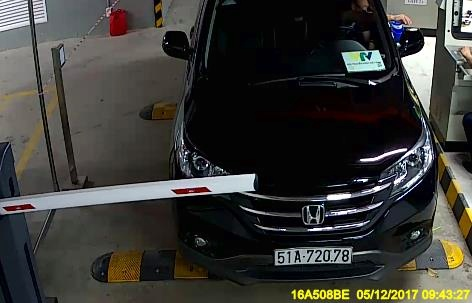plate: (274, 242, 352, 267)
